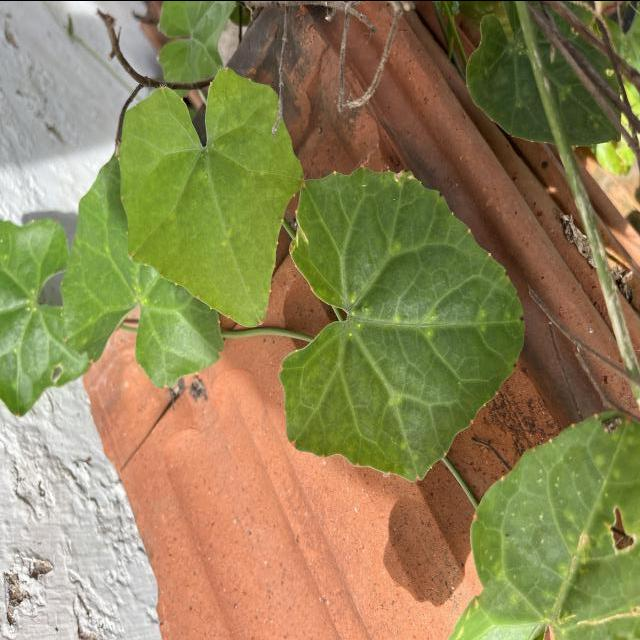Coccinia grandis: (277, 162, 528, 483), (116, 64, 306, 328)
